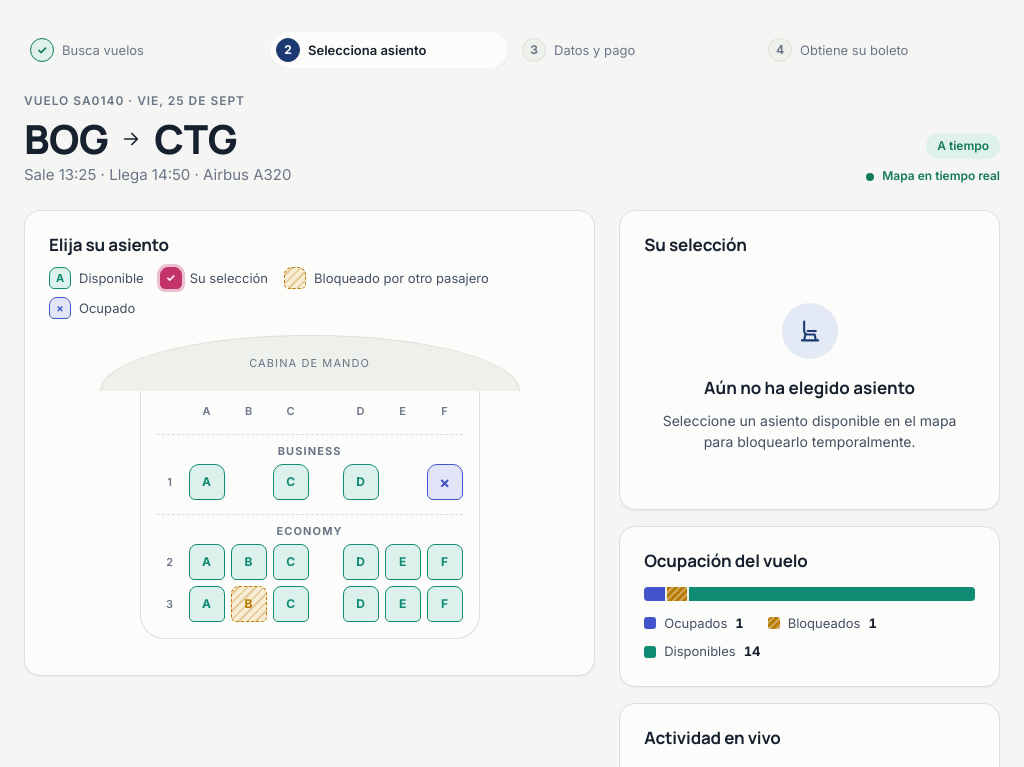
it: SeatSelectionPage (HU2 de punta a punta con dobles) › ante un conflicto 409 avisa y re-consulta el asiento (endpoint 1)
The width and height of the screenshot is (1024, 767).
Click the button "D" below "Economy" at [361, 562], box [343,544,379,580]
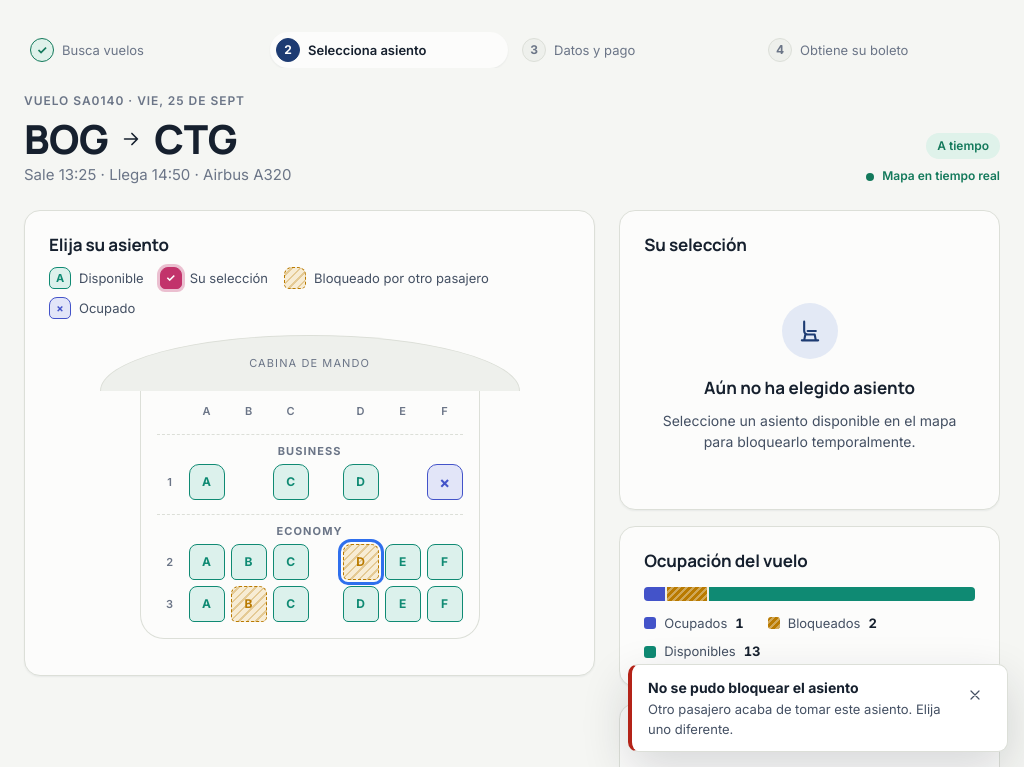
Expected: the text "Otro pasajero acaba de tomar este asiento" is shown, [648,701,940,737]
